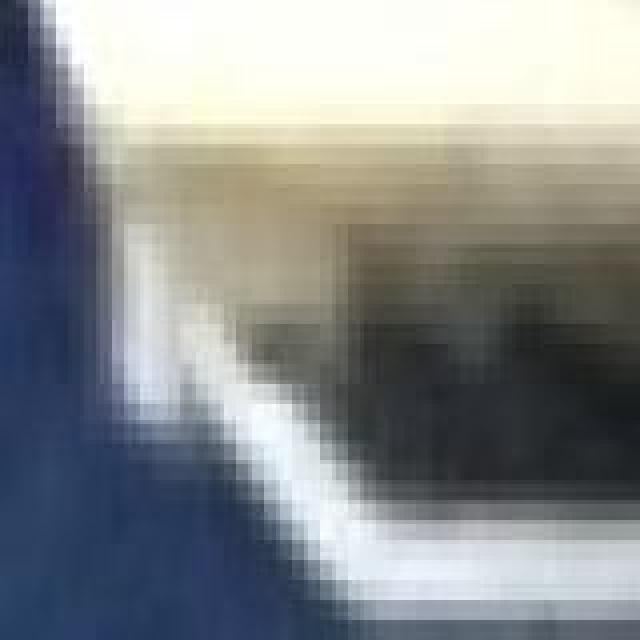switch: (60, 0, 640, 640)
